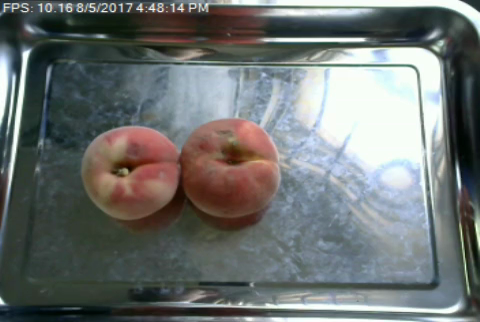Peach: (179, 115, 282, 218), (82, 123, 179, 221)
